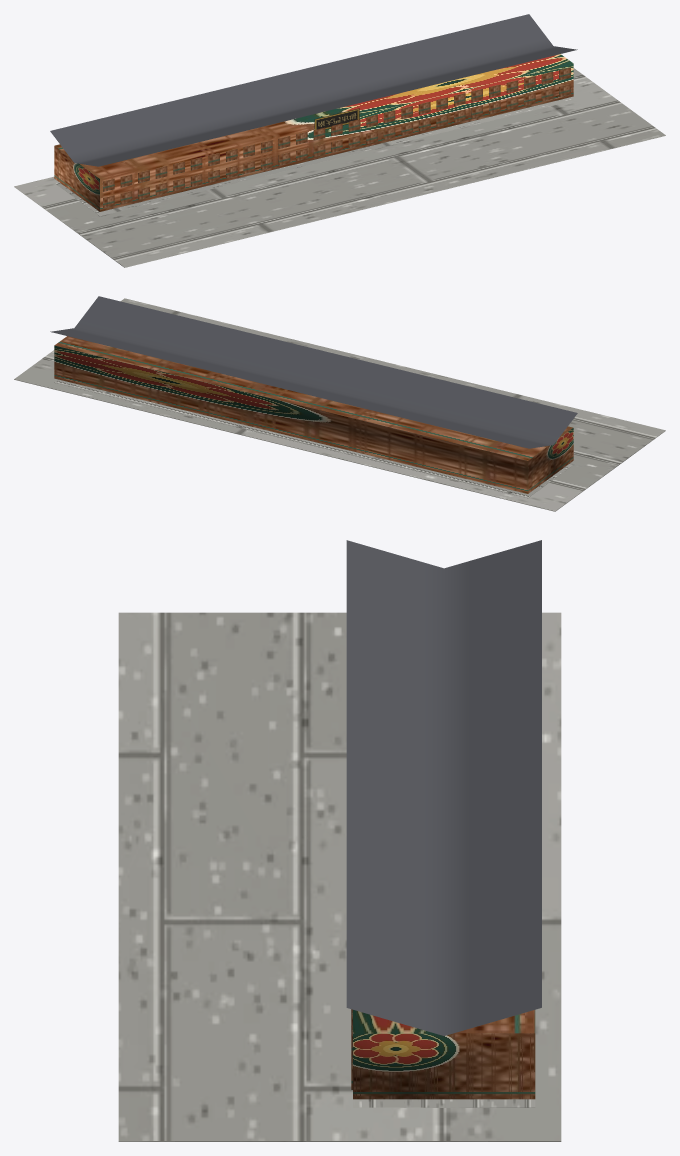
3 renders of one model, top to bottom at view 1: azimuth 30°, elevation 25°; view 2: azimuth 150°, elevation 25°; view 3: azimuth 270°, elevation 25°, orthographic. The views are drawn at different scales.
Parts seen in each view (by area): view 1: 11140_02_04528_013_01_L2__base, 11140_02_04528_013_03_L2__roof, 11140_02_04528_013_02_L2__body, 11140_02_04528_013_05_L2__openings, 11140_02_04528_013_04_L2__sign; view 2: 11140_02_04528_013_02_L2__body, 11140_02_04528_013_03_L2__roof, 11140_02_04528_013_01_L2__base; view 3: 11140_02_04528_013_01_L2__base, 11140_02_04528_013_03_L2__roof, 11140_02_04528_013_02_L2__body.
Part boxes in pixels (box(x1,y1,x2,y2)): 11140_02_04528_013_01_L2__base: box(14, 68, 665, 267); 11140_02_04528_013_03_L2__roof: box(50, 14, 577, 166); 11140_02_04528_013_02_L2__body: box(54, 54, 573, 211); 11140_02_04528_013_05_L2__openings: box(103, 67, 570, 208); 11140_02_04528_013_04_L2__sign: box(314, 108, 359, 129); 11140_02_04528_013_02_L2__body: box(54, 336, 573, 493); 11140_02_04528_013_03_L2__roof: box(50, 296, 577, 448); 11140_02_04528_013_01_L2__base: box(14, 298, 665, 511); 11140_02_04528_013_01_L2__base: box(118, 612, 561, 1141); 11140_02_04528_013_03_L2__roof: box(346, 540, 541, 1035); 11140_02_04528_013_02_L2__body: box(353, 1010, 535, 1099).
Size of the model in its own units: 96 by 8.8 by 34.
Materials: 5 (5 with a texture image).
